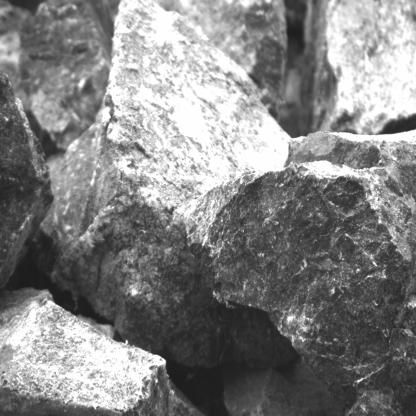stone: (50, 0, 289, 353), (185, 129, 416, 416), (0, 286, 170, 416), (309, 0, 416, 133)
